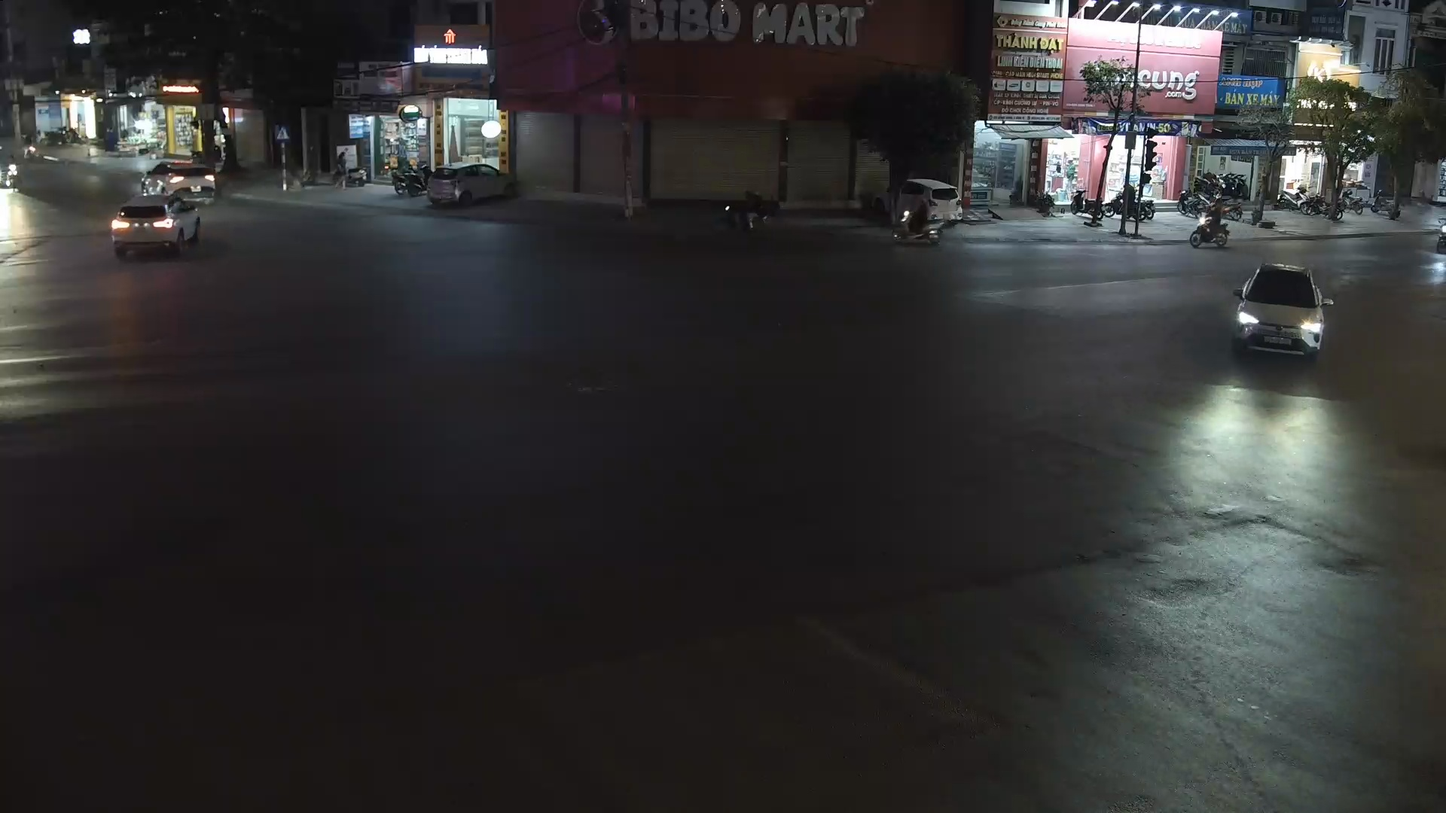car: (1229, 262, 1334, 363), (109, 193, 202, 261)
motorbike: (892, 180, 943, 248)
